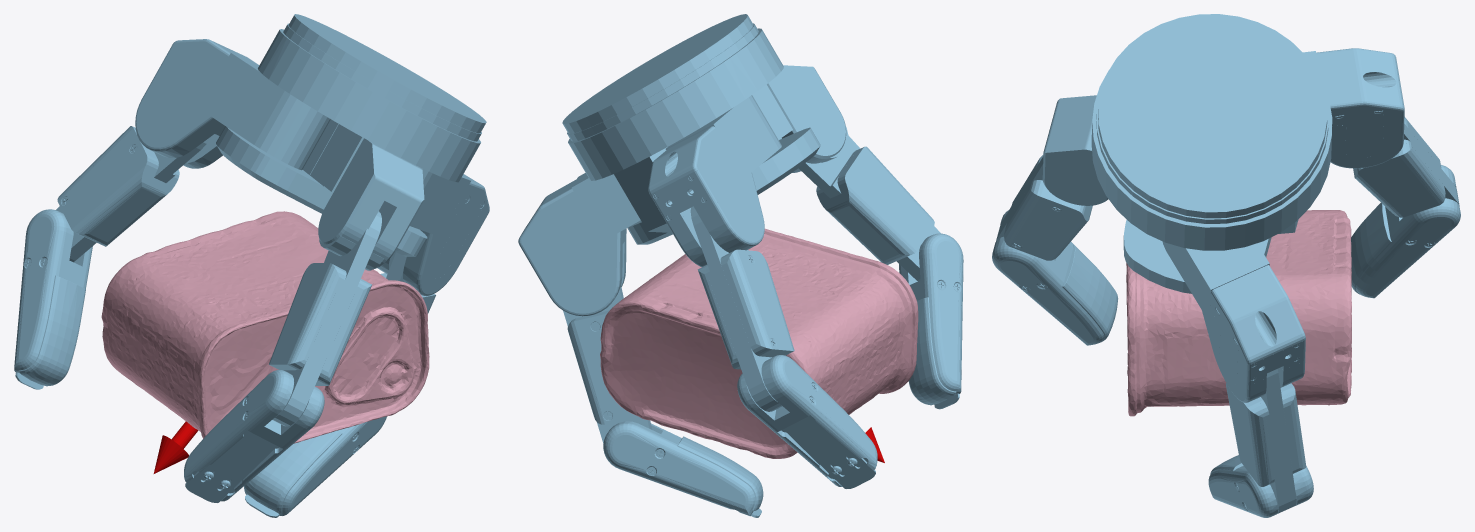
3 views of the same model, side by side, from view 1: azimuth 30°, elevation 25°; view 2: azimuth 150°, elevation 25°; view 3: azimuth 270°, elevation 25° (orthographic). The views are drawn at different scales.
Visible parts, largest first — view 1: world, potted_meat_can.stl; view 2: world, potted_meat_can.stl; view 3: world, potted_meat_can.stl.
Part boxes in pixels (x1=…): world: x1=14, y1=14, x2=489, y2=517; potted_meat_can.stl: x1=101, y1=211, x2=429, y2=443; world: x1=518, y1=14, x2=963, y2=517; potted_meat_can.stl: x1=600, y1=228, x2=918, y2=458; world: x1=992, y1=14, x2=1460, y2=517; potted_meat_can.stl: x1=1126, y1=210, x2=1351, y2=416.
Bounding box in the file's own units: 0.1859 × 0.2046 × 0.1736.
